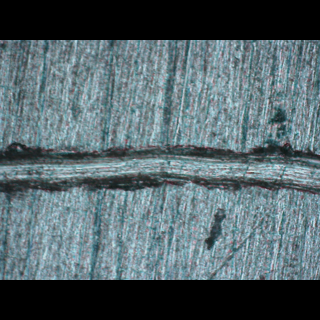d: (2, 140, 320, 200)
